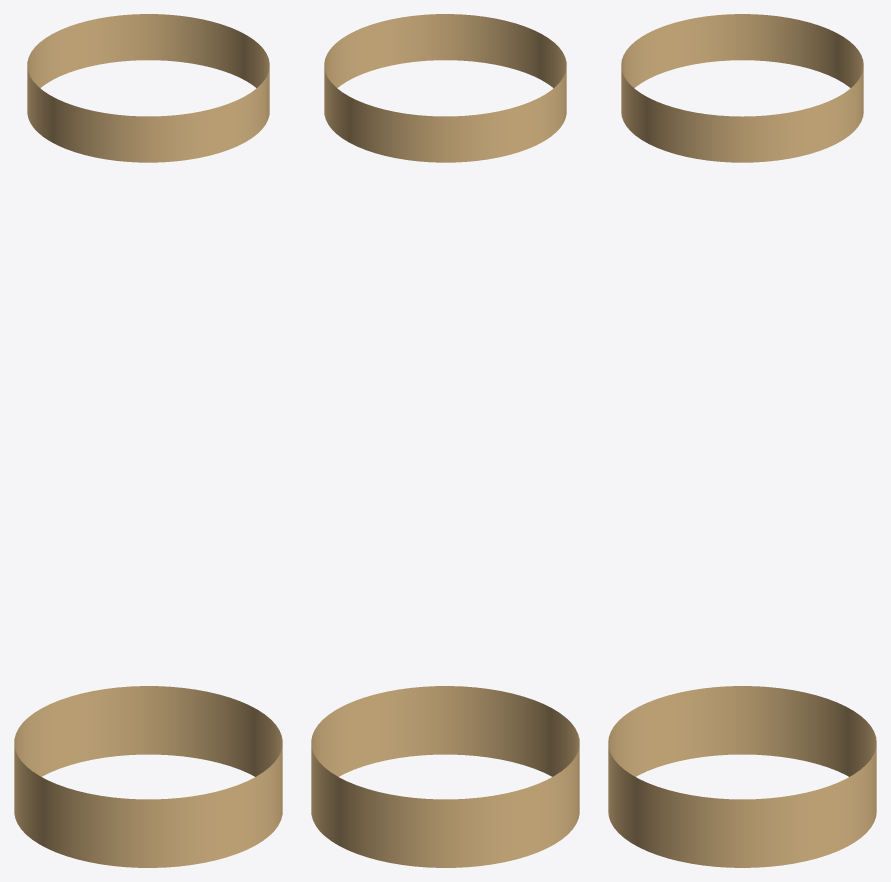
File: two_small_rings.fbx
3 views of the same model, side by side, from view 1: azimuth 30°, elevation 25°; view 2: azimuth 150°, elevation 25°; view 3: azimuth 270°, elevation 25° (orthographic).
Parts seen in each view (by area): view 1: Cylinder.010; view 2: Cylinder.010; view 3: Cylinder.010.
Boxes of the visible parts, bbox=[...] form: Cylinder.010: bbox=[14, 14, 282, 867]; Cylinder.010: bbox=[311, 14, 579, 867]; Cylinder.010: bbox=[608, 14, 876, 867].
Bounding box in the file's own units: 386 × 1184 × 386.
